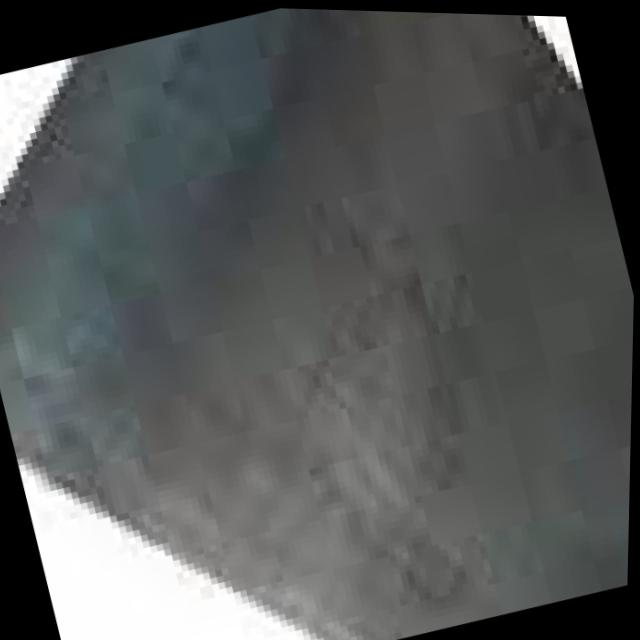metal-plates: (1, 7, 636, 640)
